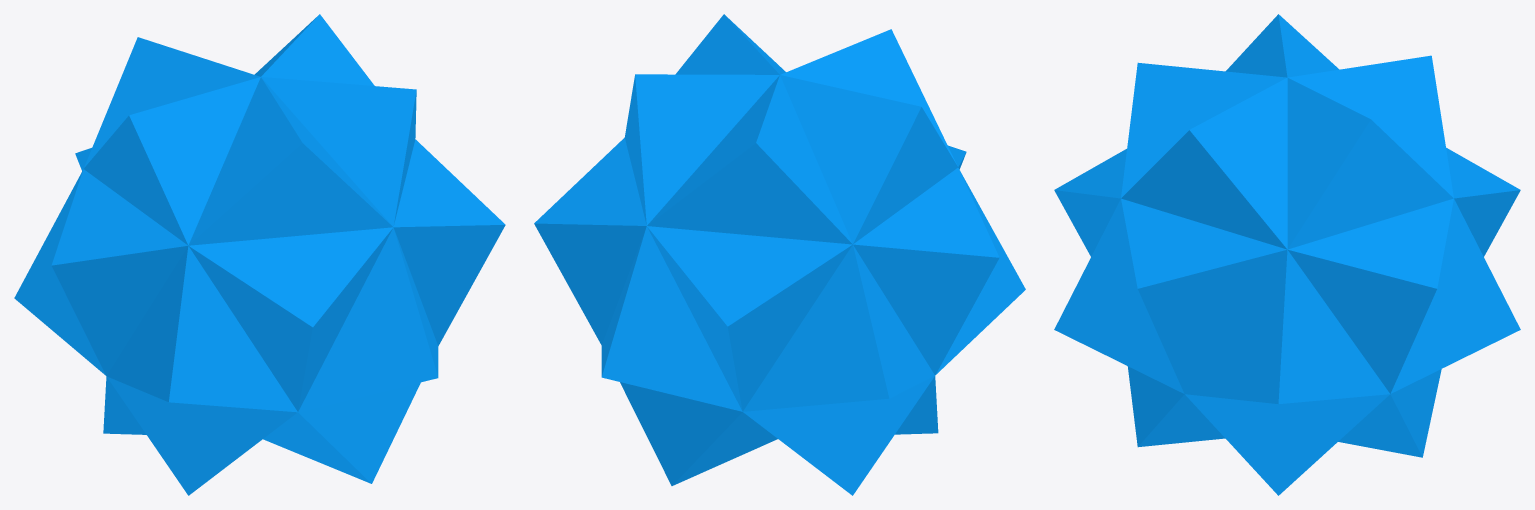
Rendered from DurianModel.glb.
3 renders of one model, left to right at view 1: azimuth 30°, elevation 25°; view 2: azimuth 150°, elevation 25°; view 3: azimuth 270°, elevation 25°, orthographic. The views are drawn at different scales.
Parts seen in each view (by area): view 1: Icosphere.002; view 2: Icosphere.002; view 3: Icosphere.002.
Part boxes in pixels (bbox=[...]): Icosphere.002: bbox=[14, 14, 505, 495]; Icosphere.002: bbox=[534, 14, 1025, 495]; Icosphere.002: bbox=[1054, 14, 1520, 495].
Size of the model in its own units: 2.48 by 2.08 by 2.38.
1 material, 1 textured.
